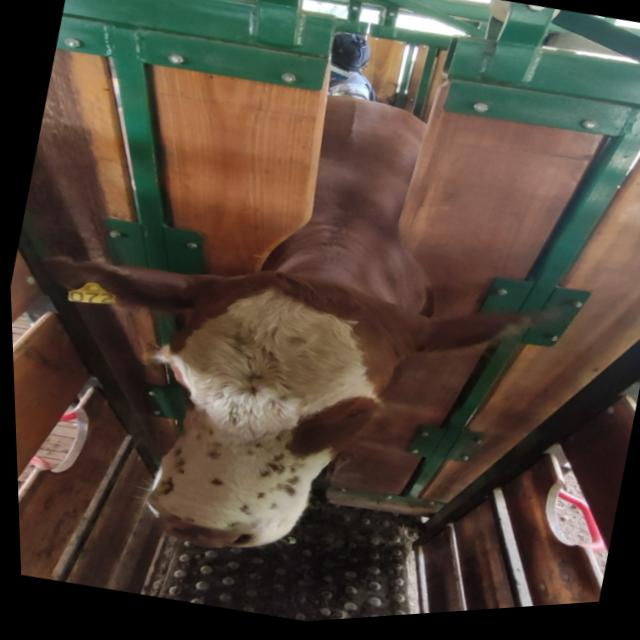cowFace: (116, 249, 409, 584)
